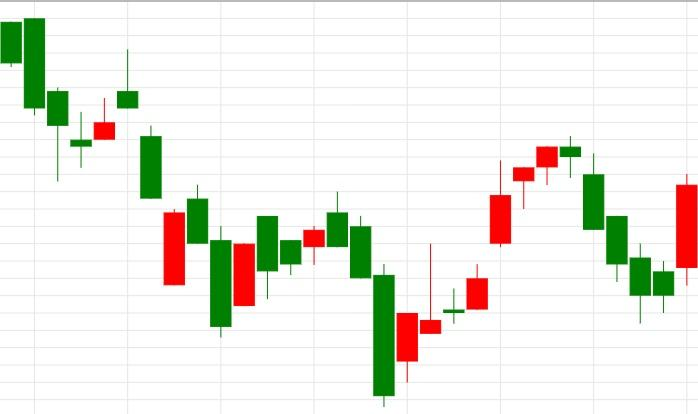evening_star_fall: (466, 136, 605, 310)
